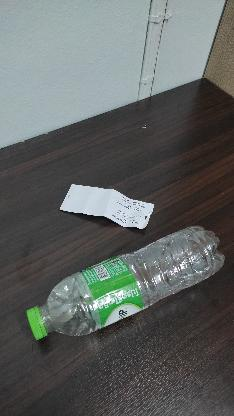Plastic Bottle: (23, 224, 226, 350)
